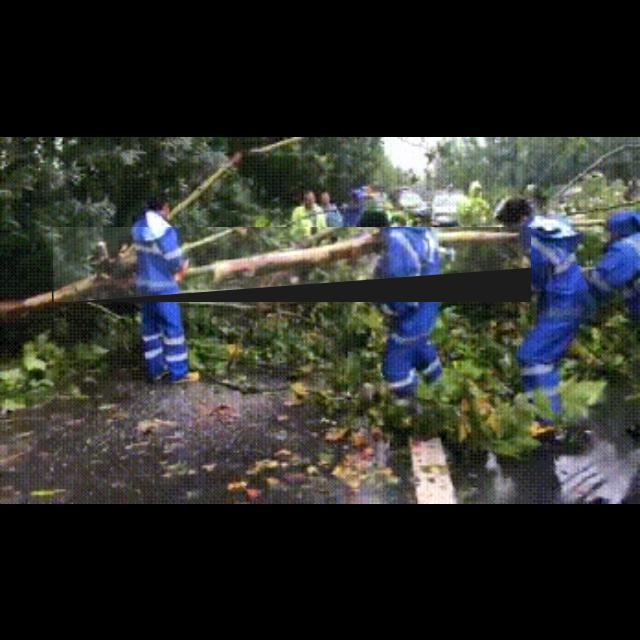fallen_tree: (52, 227, 532, 303)
